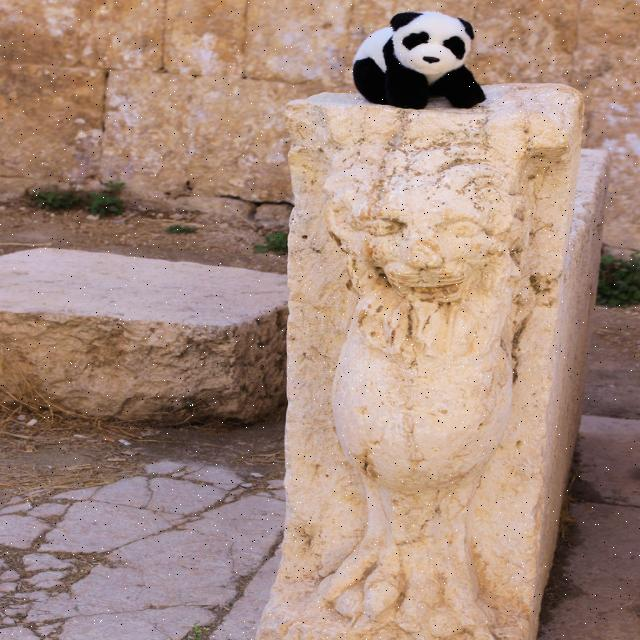panda: (353, 10, 485, 109)
